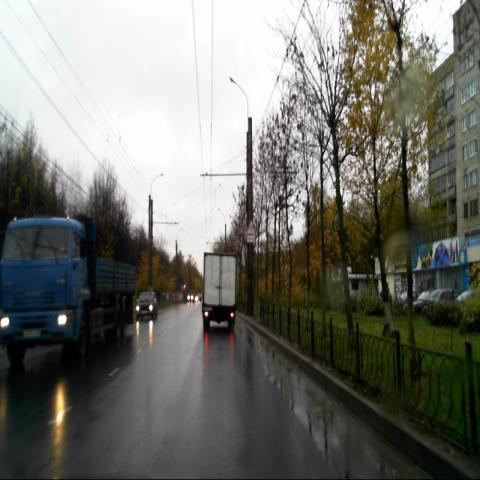1_23: (246, 220, 255, 236)
